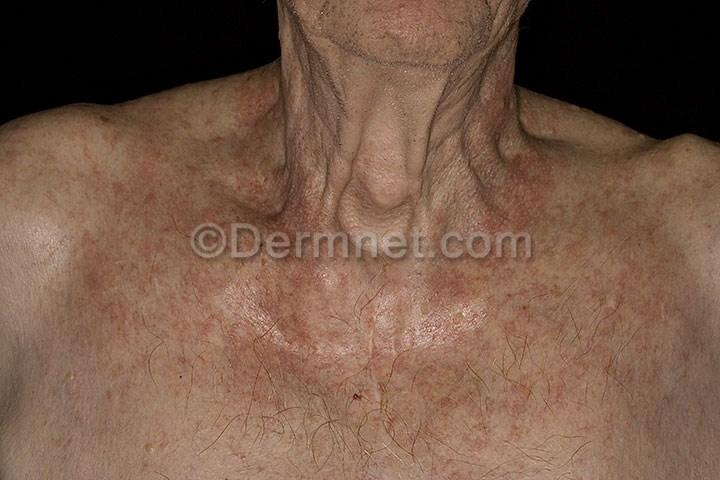Eczema: (414, 300, 575, 398), (355, 395, 468, 480), (330, 292, 415, 390), (595, 133, 674, 235), (583, 317, 674, 404), (500, 162, 600, 240), (427, 223, 523, 301), (7, 133, 99, 210), (104, 218, 180, 308), (502, 99, 601, 167), (255, 294, 328, 386), (170, 321, 259, 392), (468, 398, 549, 473), (200, 230, 282, 304), (530, 243, 612, 317), (609, 235, 679, 319), (41, 211, 106, 298), (84, 302, 162, 370), (334, 235, 417, 296), (165, 235, 221, 323), (165, 173, 243, 233), (262, 224, 334, 286), (104, 154, 167, 219), (164, 120, 239, 173), (176, 79, 251, 128), (292, 173, 344, 239), (242, 116, 288, 187), (245, 173, 301, 230), (104, 101, 156, 159), (245, 65, 289, 116)
